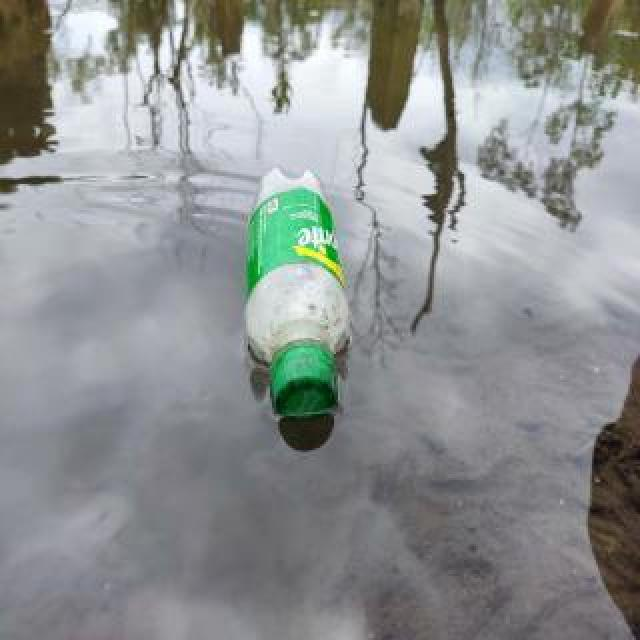Bottle: (238, 161, 350, 427)
